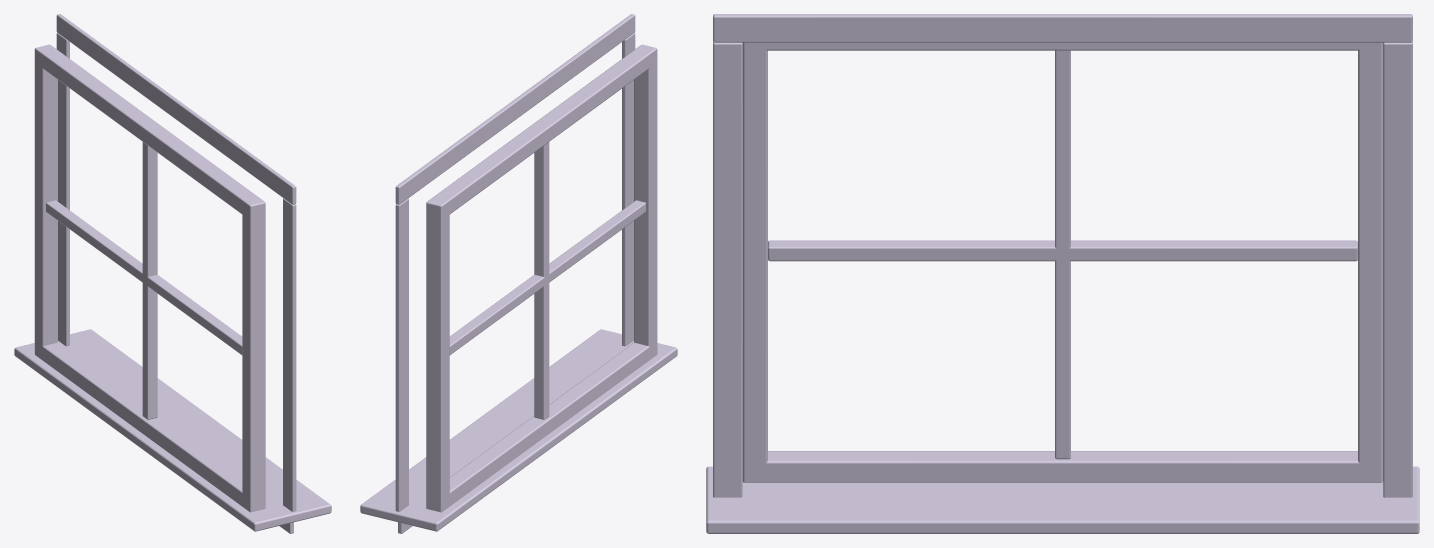
Rendered from window_pane.fbx.
3 renders of one model, left to right at view 1: azimuth 30°, elevation 25°; view 2: azimuth 150°, elevation 25°; view 3: azimuth 270°, elevation 25°, orthographic. The views are drawn at different scales.
Visible parts, largest first — view 1: window_pane, Window_Sash; view 2: window_pane, Window_Sash; view 3: window_pane, Window_Sash.
Part boxes in pixels (x1,y1,x2,y2): window_pane: (14,14,331,533); Window_Sash: (45,142,242,419); window_pane: (360,14,677,533); Window_Sash: (449,142,646,419); window_pane: (706,14,1419,533); Window_Sash: (768,50,1357,459).
Bounding box in the file's own units: 0.29 × 1.25 × 1.56.
